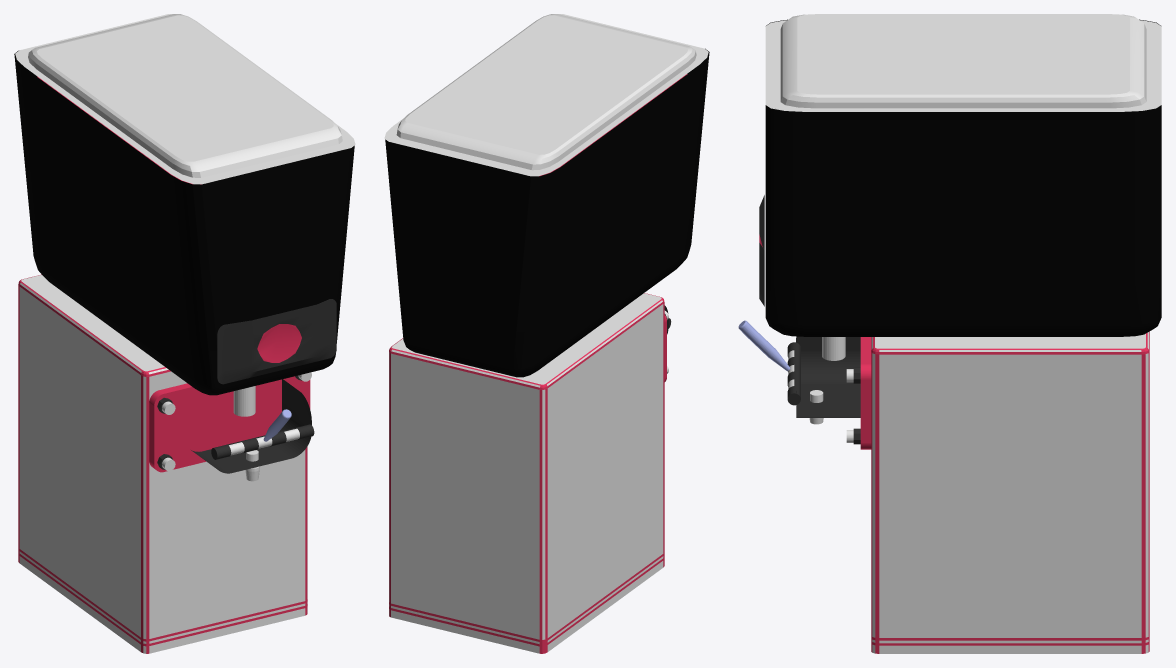
Rendered from sauce_machine.fbx.
The picture shows the model from 3 angles, left to right: view 1: azimuth 30°, elevation 25°; view 2: azimuth 150°, elevation 25°; view 3: azimuth 270°, elevation 25°; orthographic projection. The views are drawn at different scales.
Visible parts, largest first — view 1: body-strawberry, glass; view 2: body-strawberry, glass; view 3: body-strawberry, glass, handle.
Part boxes in pixels (<box>): body-strawberry: <box>15,14,355,653</box>; glass: <box>14,50,354,395</box>; body-strawberry: <box>384,14,708,653</box>; glass: <box>385,48,709,377</box>; body-strawberry: <box>759,14,1161,653</box>; glass: <box>765,19,1161,336</box>; handle: <box>738,320,790,371</box>.
Size of the model in its own units: 18.08 by 50.49 by 34.79.
